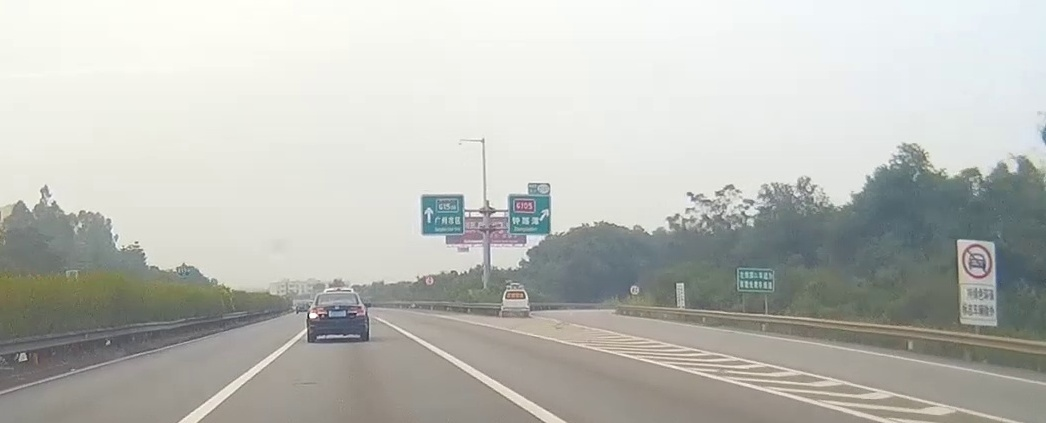L_light: (309, 308, 327, 318)
R_light: (348, 307, 366, 316)
T_light: (333, 294, 342, 297)
day-left: (306, 291, 369, 342)
